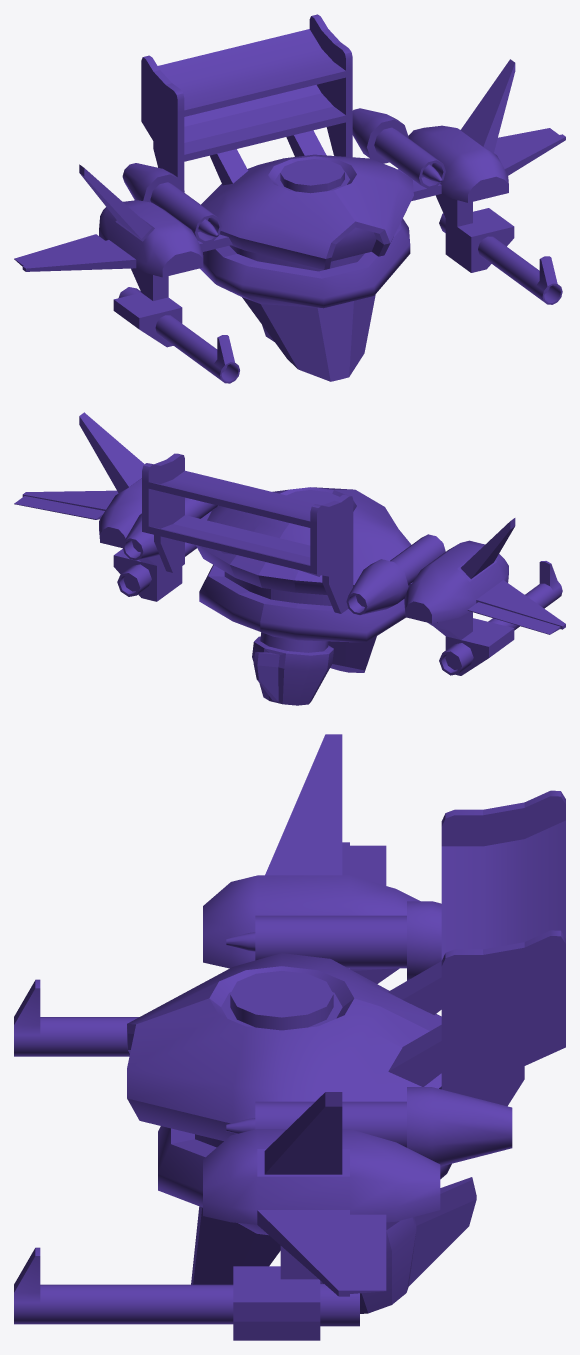
Rendered from robot04.fbx.
3 views of the same model, one above another, from view 1: azimuth 30°, elevation 25°; view 2: azimuth 150°, elevation 25°; view 3: azimuth 270°, elevation 25° (orthographic). The views are drawn at different scales.
Parts seen in each view (by area): view 1: robot04; view 2: robot04; view 3: robot04.
Boxes of the visible parts, x1,y1,x2,y2 form: robot04: (14, 14, 565, 383); robot04: (14, 412, 565, 705); robot04: (14, 734, 565, 1340).
Size of the model in its own units: 1.74 by 0.8153 by 0.907.
